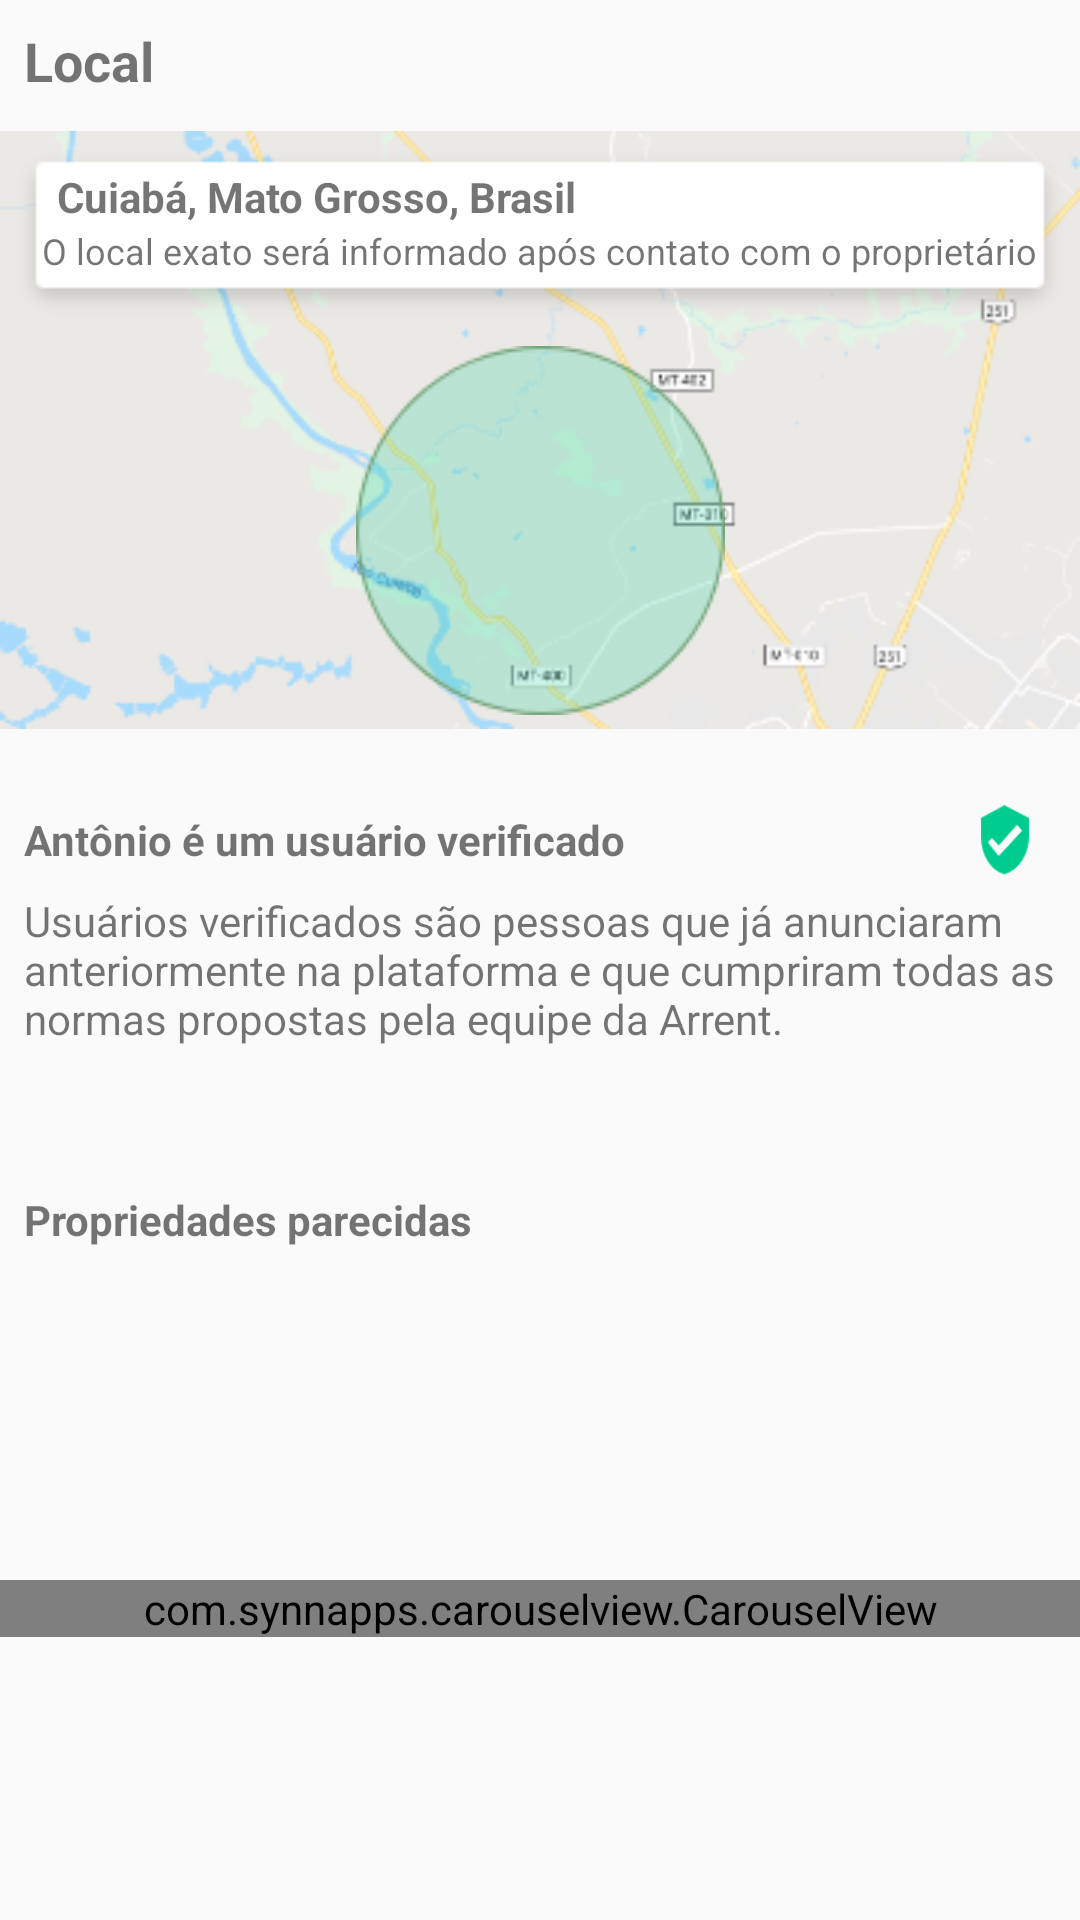

Icons on this 1080×1920 Android screen, each with the point to tap as [x,y]:
verified user: [1005,840]
